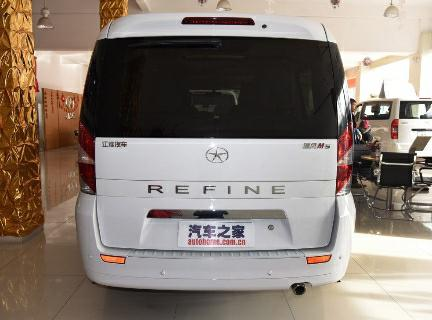江淮-瑞风M5: (73, 8, 358, 302)
